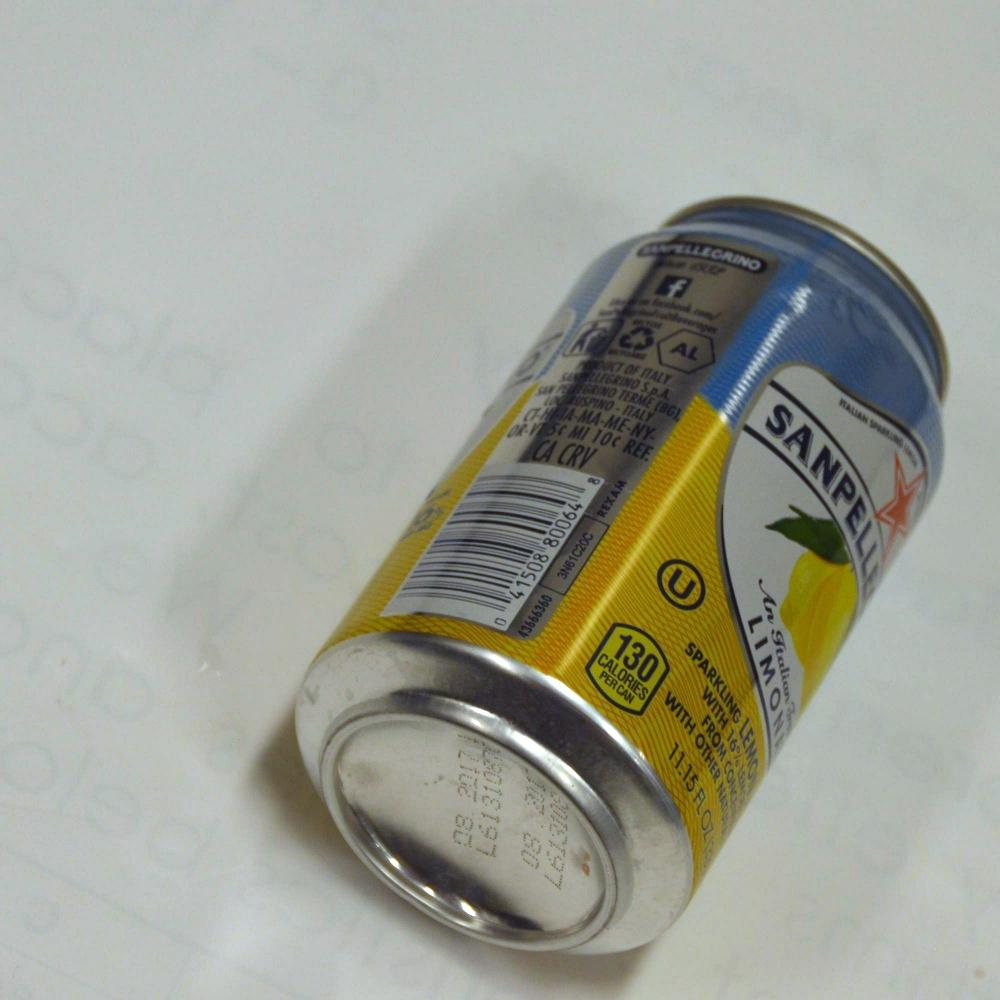Metal: (281, 165, 953, 973)
